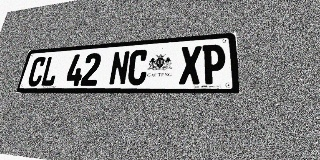2: (80, 53, 102, 86)
4: (65, 54, 86, 86)
C: (126, 49, 149, 85), (26, 57, 47, 87)
L: (40, 56, 61, 86)
N: (108, 51, 130, 86)
P: (202, 44, 226, 84)
X: (179, 45, 202, 85)
